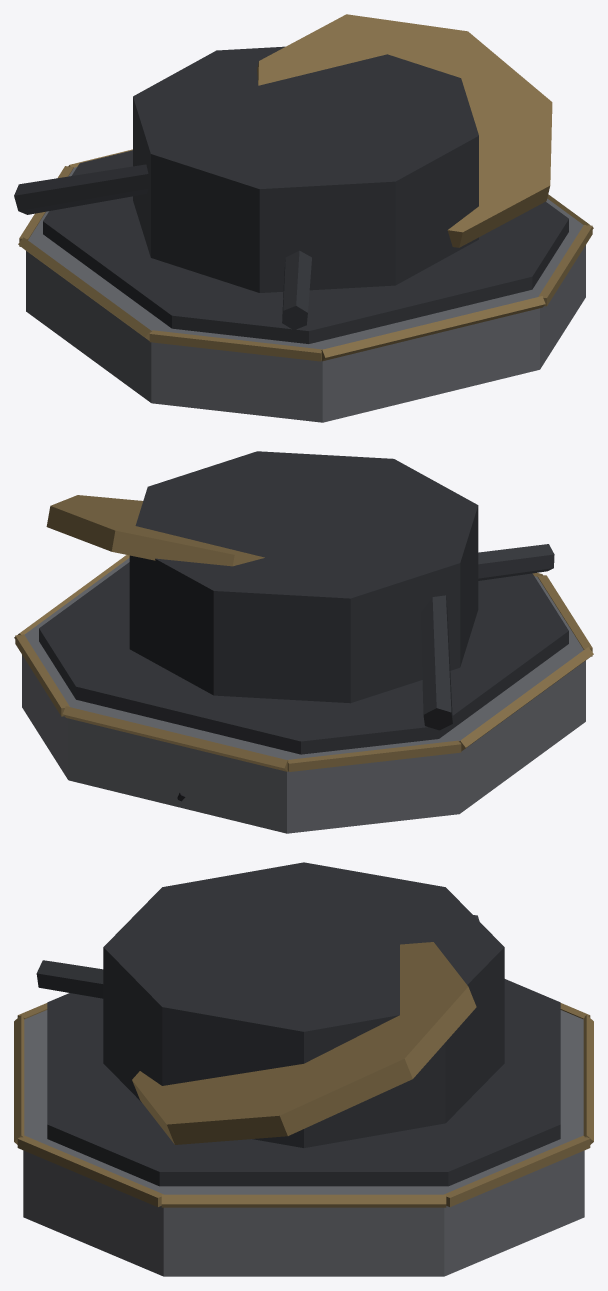
The model's file is Wreck_Aegis_FlakBattery.fbx.
3 views of the same model, one above another, from view 1: azimuth 30°, elevation 25°; view 2: azimuth 150°, elevation 25°; view 3: azimuth 270°, elevation 25° (orthographic). The views are drawn at different scales.
Visible parts, largest first — view 1: Wreck_Aegis_FlakBattery; view 2: Wreck_Aegis_FlakBattery; view 3: Wreck_Aegis_FlakBattery.
Part boxes in pixels (box(x1,y1,x2,y2)): Wreck_Aegis_FlakBattery: box(14, 14, 593, 422); Wreck_Aegis_FlakBattery: box(14, 451, 593, 833); Wreck_Aegis_FlakBattery: box(14, 862, 593, 1276).
Size of the model in its own units: 1.48 by 0.6424 by 1.45.
